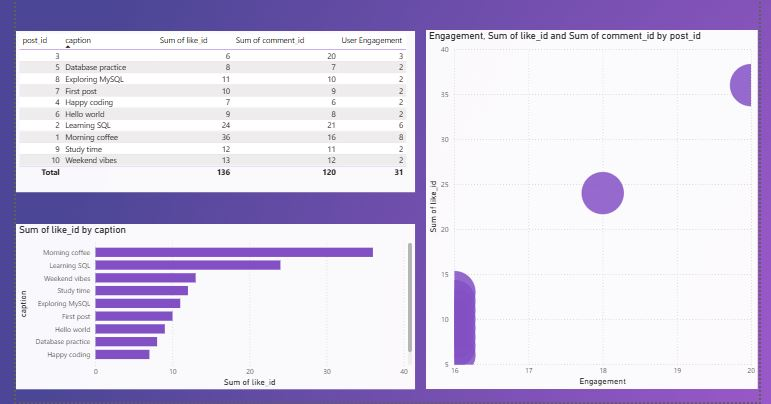

The dashboard page shown, as its layout file describes it:
{"tool":"powerbi","page":{"name":"Engagement Analysis","canvas":[1280,720],"ordinal":2},"visuals":[{"type":"tableEx","fields":{"Values":["socialmediadb posts.post_id","socialmediadb posts.caption","Sum(socialmediadb likes.like_id)","Sum(socialmediadb comments.comment_id)","socialmediadb comments.User Engagement"]},"box":[0,81.8,688.5,277.7],"z":0},{"type":"barChart","fields":{"Category":["socialmediadb posts.caption"],"Y":["Sum(socialmediadb likes.like_id)"]},"box":[0,414.6,688.5,285.3],"z":1},{"type":"scatterChart","fields":{"Category":["socialmediadb likes.post_id"],"X":["socialmediadb comments.Engagement"],"Y":["Sum(socialmediadb likes.like_id)"],"Size":["Sum(socialmediadb comments.comment_id)"]},"box":[706.9,79.3,572.4,619],"z":2}]}

Visuals, with their boxes in screenshot pixels (x1, y1, x2, y2):
tableEx - socialmediadb posts.post_id x socialmediadb posts.caption: BBox(18, 31, 413, 190)
barChart - socialmediadb posts.caption x Sum(socialmediadb likes.like_id): BBox(18, 222, 413, 385)
scatterChart - socialmediadb likes.post_id x socialmediadb comments.Engagement: BBox(423, 29, 751, 384)
